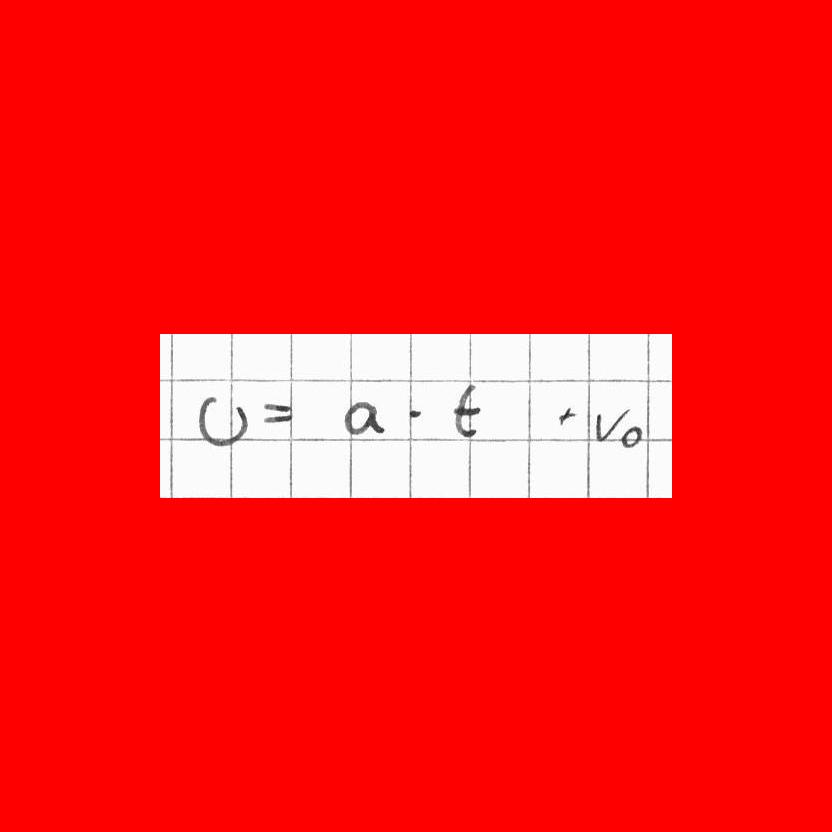Char: (193, 395, 248, 447), (451, 381, 483, 442), (339, 397, 386, 438), (594, 404, 629, 443), (261, 400, 295, 426), (554, 402, 582, 432), (616, 423, 643, 450), (403, 402, 426, 423)
